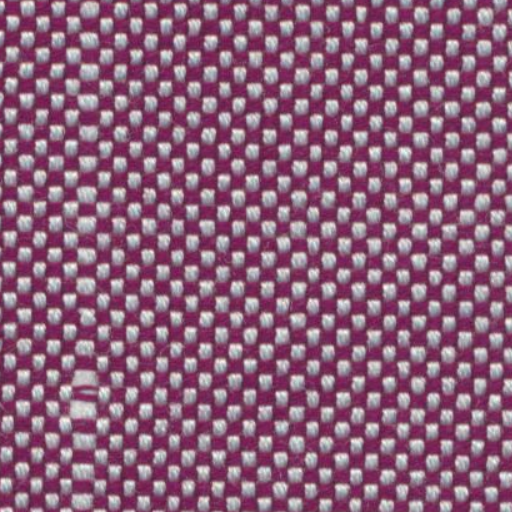DaiSha: (65, 14, 118, 490)
